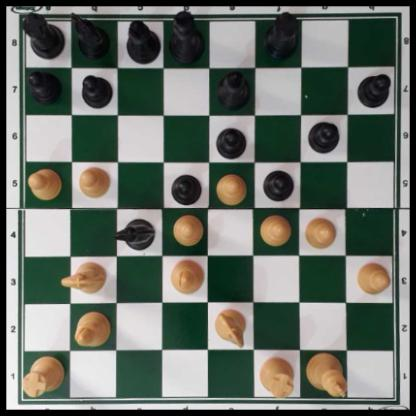black-bishop: (127, 17, 161, 64), (218, 68, 250, 109)
black-king: (168, 11, 205, 63)
black-knight: (73, 10, 109, 60), (113, 219, 155, 249)
black-pawn: (25, 67, 63, 104), (356, 72, 390, 108), (80, 72, 111, 108), (215, 126, 248, 159), (263, 167, 294, 201), (307, 120, 339, 152), (171, 172, 202, 204)
black-rook: (20, 12, 64, 57), (262, 11, 300, 58)
white-bishop: (74, 307, 109, 349), (170, 257, 204, 293)
white-king: (304, 351, 348, 398)
white-knight: (61, 261, 108, 295), (213, 307, 248, 347)
white-pawn: (355, 261, 390, 296), (215, 172, 248, 206), (259, 213, 292, 247), (28, 167, 63, 199), (304, 216, 336, 249), (78, 165, 109, 198), (172, 213, 203, 246)
white-rook: (19, 355, 66, 397), (257, 355, 295, 397)
